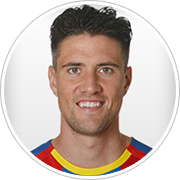face: (42, 50, 134, 128)
